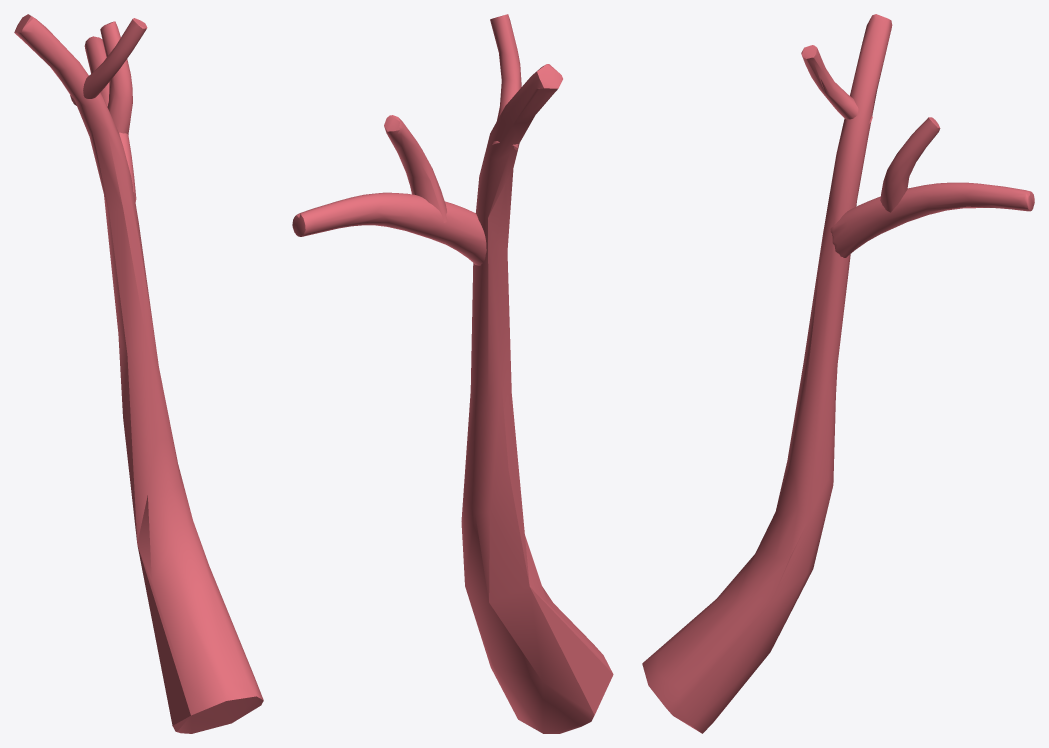
File: fma68665_cx175.glb
The picture shows the model from 3 angles, left to right: view 1: azimuth 30°, elevation 25°; view 2: azimuth 150°, elevation 25°; view 3: azimuth 270°, elevation 25°; orthographic projection. The views are drawn at different scales.
Parts seen in each view (by area): view 1: FMA68665_CX175; view 2: FMA68665_CX175; view 3: FMA68665_CX175.
Boxes of the visible parts, bbox=[...] form: FMA68665_CX175: bbox=[14, 14, 263, 733]; FMA68665_CX175: bbox=[292, 14, 613, 733]; FMA68665_CX175: bbox=[642, 14, 1034, 733].
Bounding box in the file's own units: 0.0143 × 0.0569 × 0.0302.
